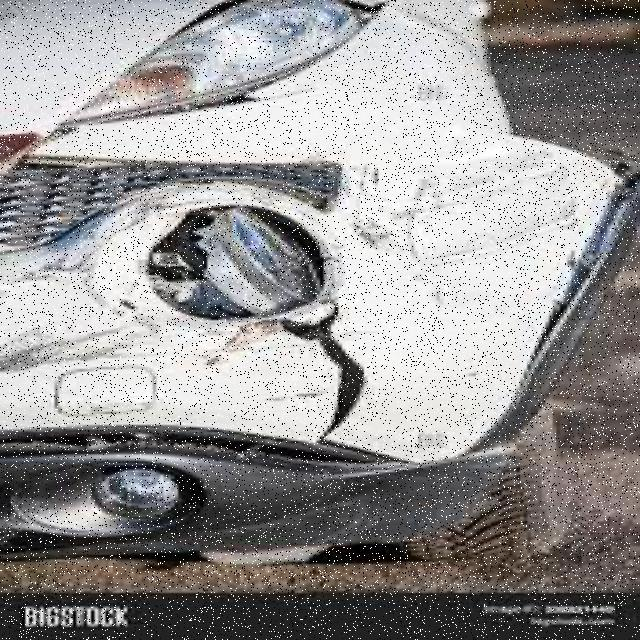front-bumper-dent: (1, 128, 612, 480)
